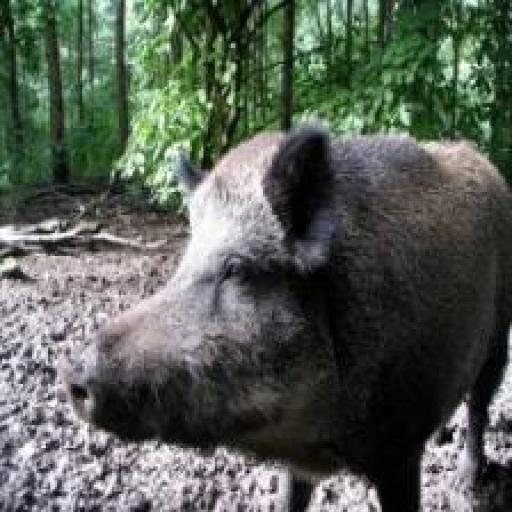Pig: (52, 93, 509, 512)
